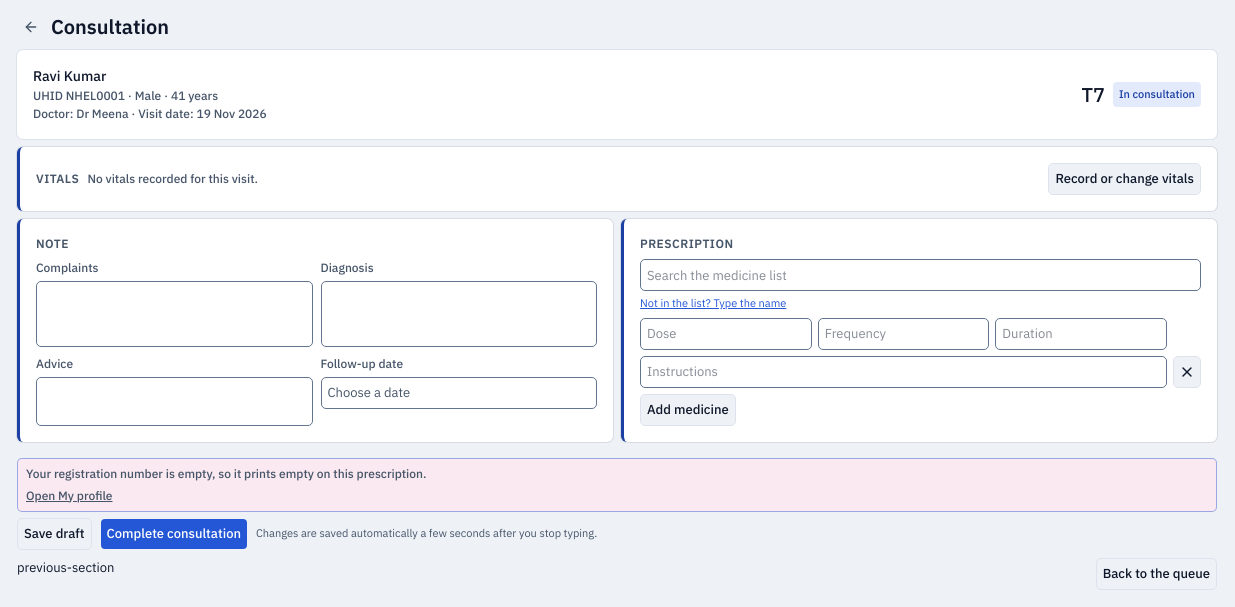
automatic saving › saves the note a few seconds after the last keystroke, not before
Type "fever for 3 days" into the text box labelled "Complaints" at (174, 314), box left=36, top=281, right=312, bottom=347
Wait 5000 ms
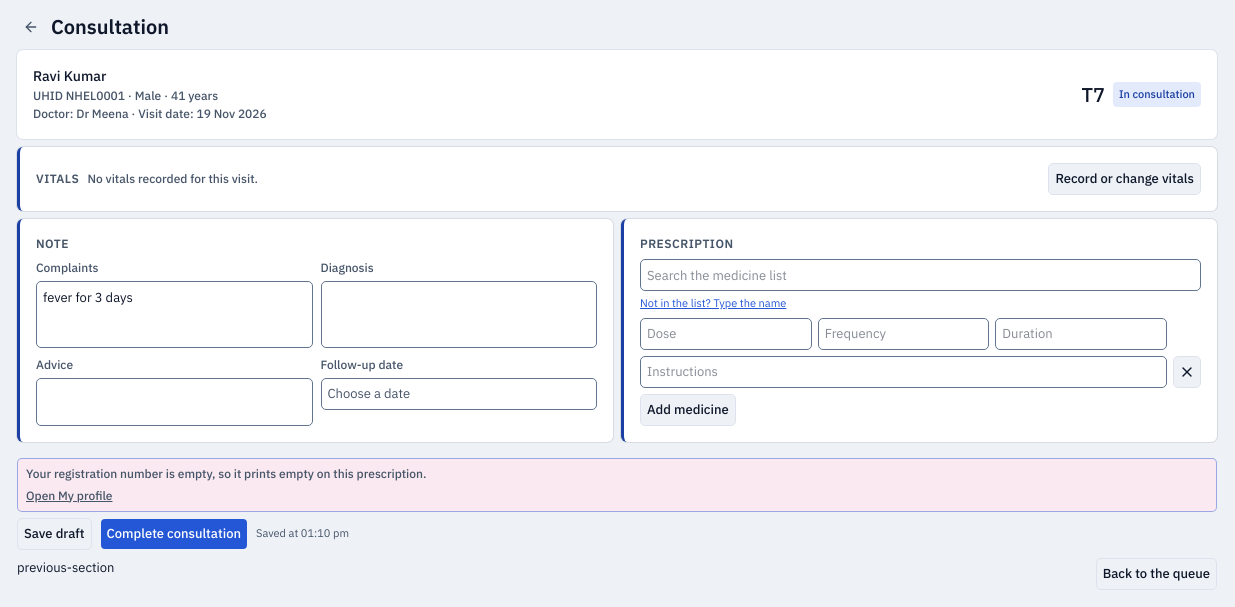
Check: the text "Saved at 01:10 pm" is shown, box left=256, top=525, right=349, bottom=542
